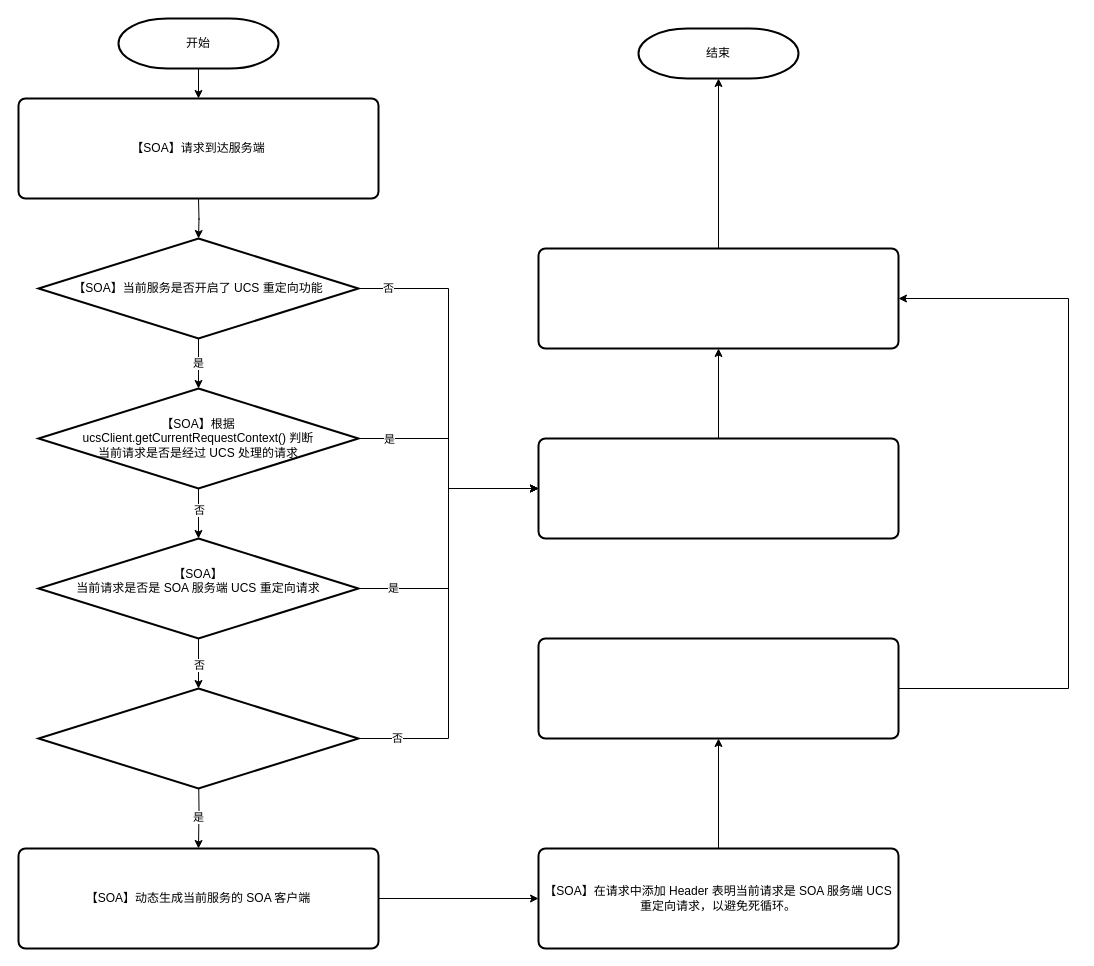
This 1094x966 diagram has some shape labels left out. The centre of each missing label's shape, as x and y in pixels:
"【SOA】使用生成的客户端发起调用" goes at pixel 718 688.
"【SOA】当前服务是否关联了 UCS 策略" goes at pixel 198 738.
"【SOA】执行用户的业务代码" goes at pixel 718 488.
"【SOA】把结果返回给客户端" goes at pixel 718 298.
